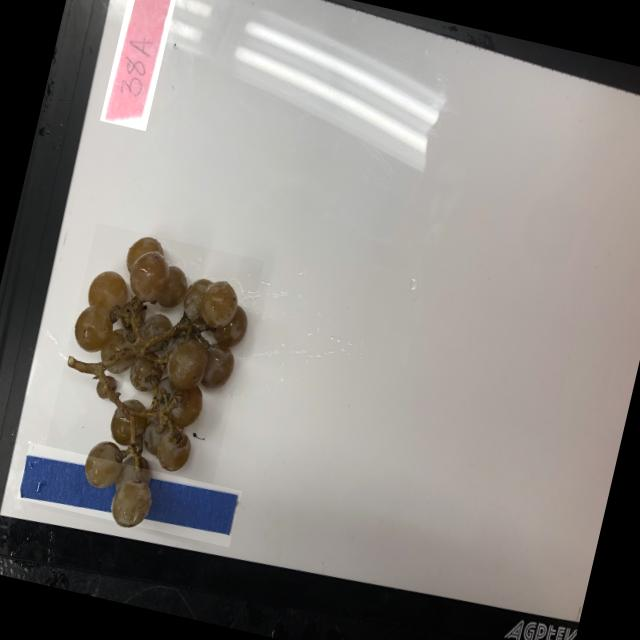grape_cluster: (31, 222, 264, 544)
index: (99, 0, 179, 130)
measure_label: (17, 441, 242, 546)
